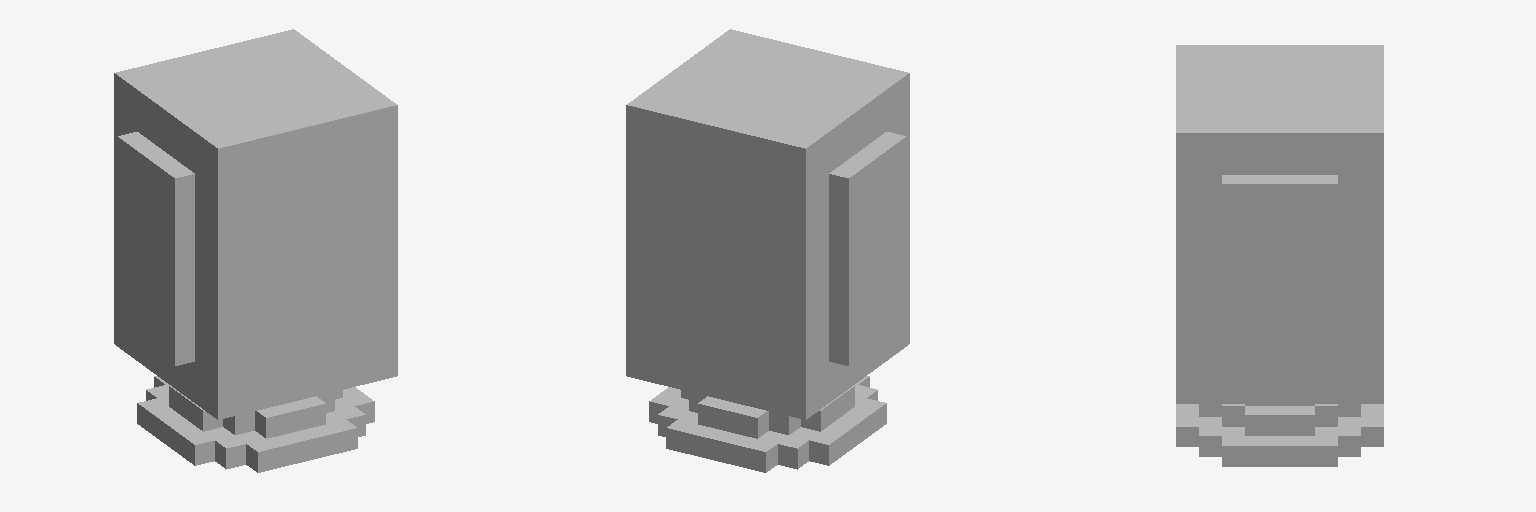
File: guardanapo.obj
The picture shows the model from 3 angles: view 1: azimuth 30°, elevation 25°; view 2: azimuth 150°, elevation 25°; view 3: azimuth 270°, elevation 25°; orthographic projection.
Visible parts, largest first — view 1: guardanapo; view 2: guardanapo; view 3: guardanapo.
Part boxes in pixels (left/top/right/bottom): guardanapo: left=114, top=29, right=397, bottom=472; guardanapo: left=626, top=29, right=909, bottom=472; guardanapo: left=1176, top=45, right=1383, bottom=466.
Bounding box in the file's own units: 11 × 16 × 9.